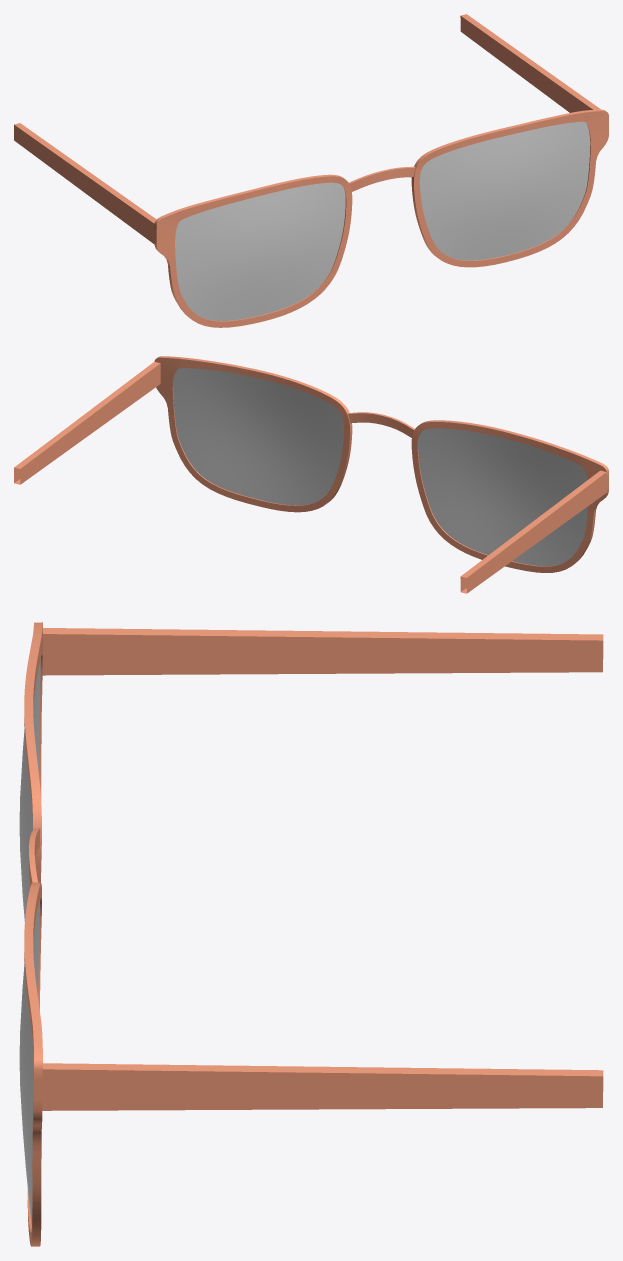
Rendered from PRADA Glasses Full Res Cutoff.fbx.
The picture shows the model from 3 angles, top to bottom: view 1: azimuth 30°, elevation 25°; view 2: azimuth 150°, elevation 25°; view 3: azimuth 270°, elevation 25°; orthographic projection. The views are drawn at different scales.
Visible parts, largest first — view 1: PRADA Glasses Full Res Cutoff; view 2: PRADA Glasses Full Res Cutoff; view 3: PRADA Glasses Full Res Cutoff.
Part boxes in pixels (x1,y1,x2,y2): PRADA Glasses Full Res Cutoff: (14,14,608,327); PRADA Glasses Full Res Cutoff: (14,356,608,593); PRADA Glasses Full Res Cutoff: (19,622,603,1246).
Bounding box in the file's own units: 0.1671 × 0.0471 × 0.0933.
